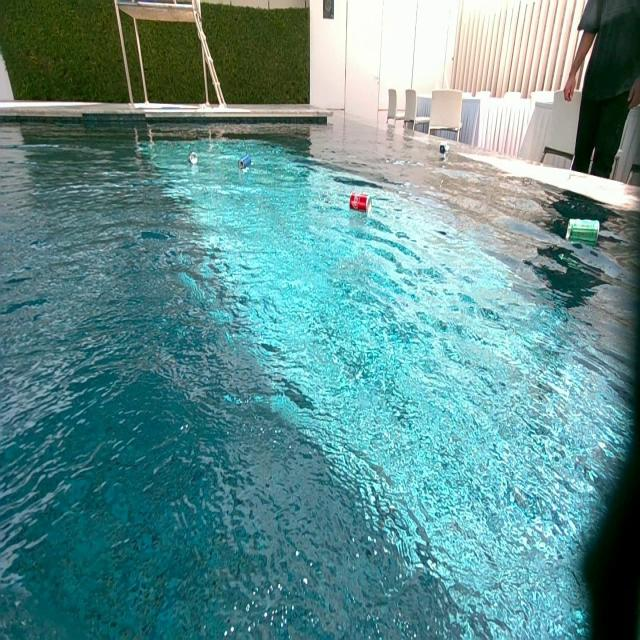Cans: (567, 220, 601, 238), (349, 195, 372, 214), (238, 157, 252, 172), (440, 142, 450, 154), (188, 152, 196, 164)
